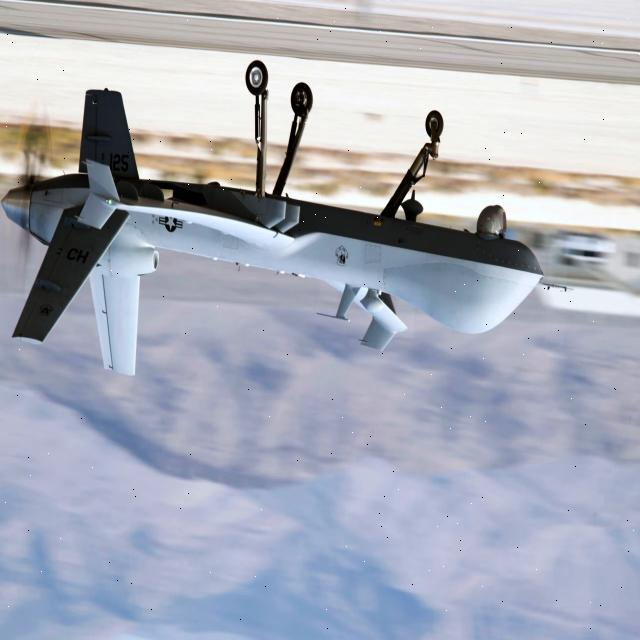MQ9: (0, 41, 563, 395)
